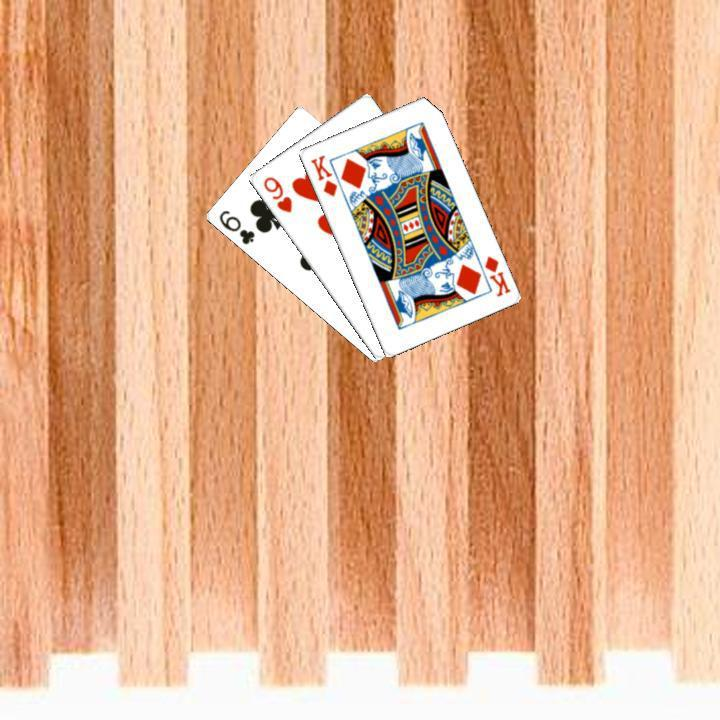6: (214, 206, 256, 247)
9: (258, 172, 294, 215)
K: (306, 150, 339, 199), (480, 251, 512, 298)
